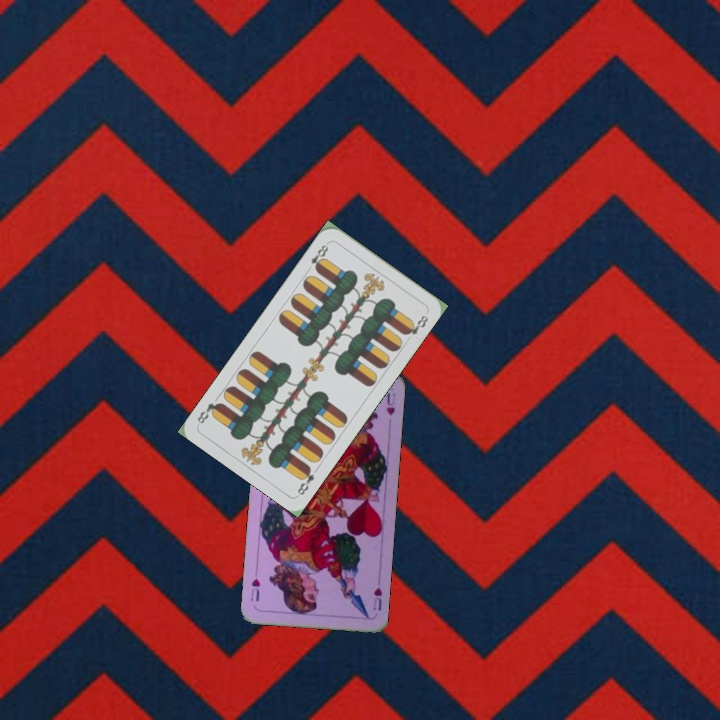E8: (303, 239, 332, 273), (293, 463, 317, 498)
HU: (369, 583, 385, 613)
